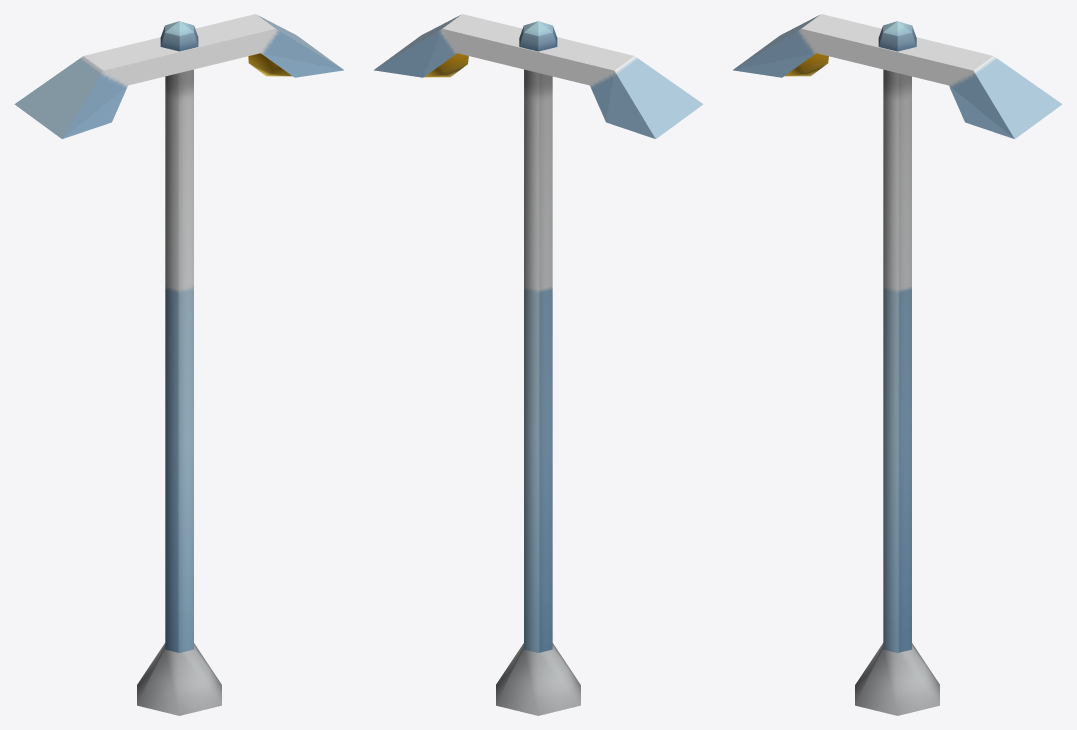
File: xiaoqu02_deng.FBX
The picture shows the model from 3 angles, left to right: view 1: azimuth 30°, elevation 25°; view 2: azimuth 150°, elevation 25°; view 3: azimuth 330°, elevation 25°; orthographic projection.
Visible parts, largest first — view 1: xiaoqu02_deng; view 2: xiaoqu02_deng; view 3: xiaoqu02_deng.
Part boxes in pixels (x1,y1,x2,y2): xiaoqu02_deng: (14, 14, 343, 715); xiaoqu02_deng: (374, 14, 703, 715); xiaoqu02_deng: (733, 14, 1062, 715).
Size of the model in its own units: 255 by 582 by 74.76.
1 material, 1 textured.
